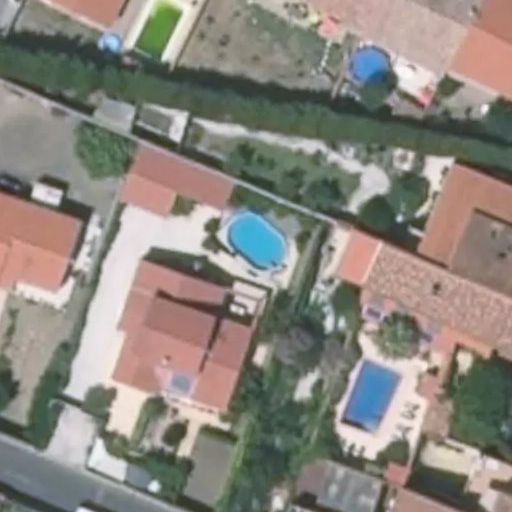pool: (212, 236, 298, 246)
